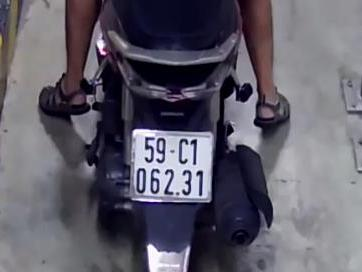num_plate: (129, 128, 213, 202)
